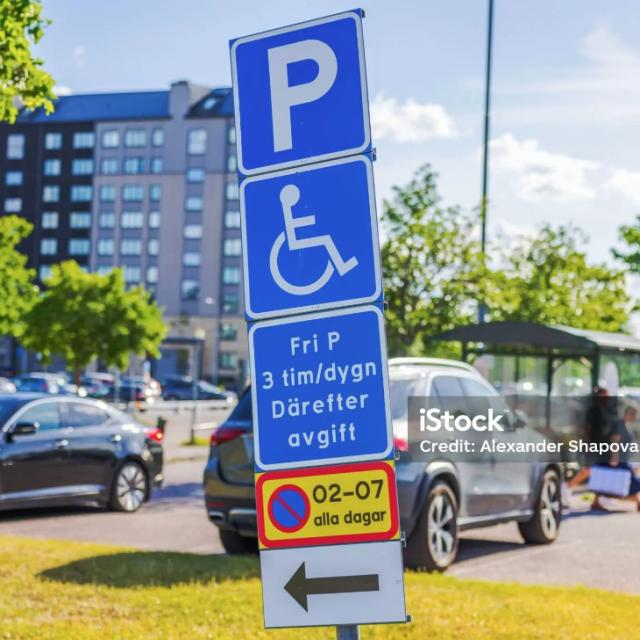symbol_of_access: (236, 152, 385, 322)
